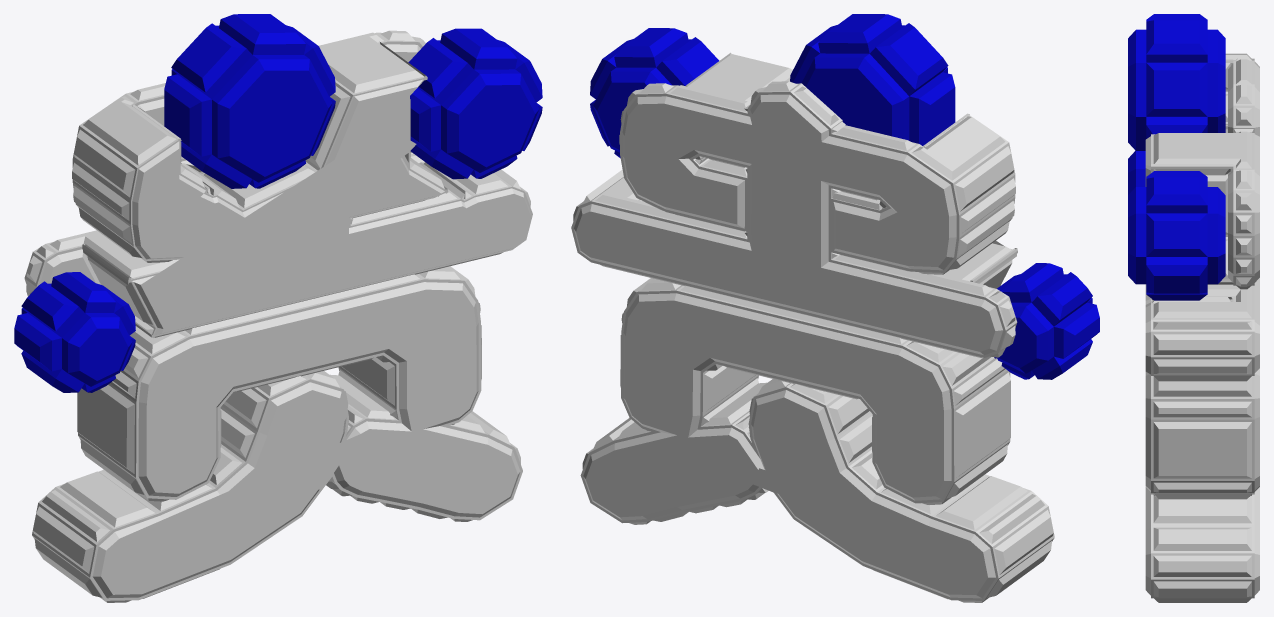
File: Ch_China_贵_01.fbx
3 renders of one model, left to right at view 1: azimuth 30°, elevation 25°; view 2: azimuth 150°, elevation 25°; view 3: azimuth 270°, elevation 25°, orthographic. The views are drawn at different scales.
Visible parts, largest first — view 1: sphere1; view 2: sphere1; view 3: sphere1.
Boxes of the visible parts, left/top/right/bottom form: sphere1: left=14, top=14, right=542, bottom=602; sphere1: left=571, top=14, right=1099, bottom=602; sphere1: left=1128, top=14, right=1259, bottom=602.
Bounding box in the file's own units: 0.9951 × 1.03 × 0.2541.
